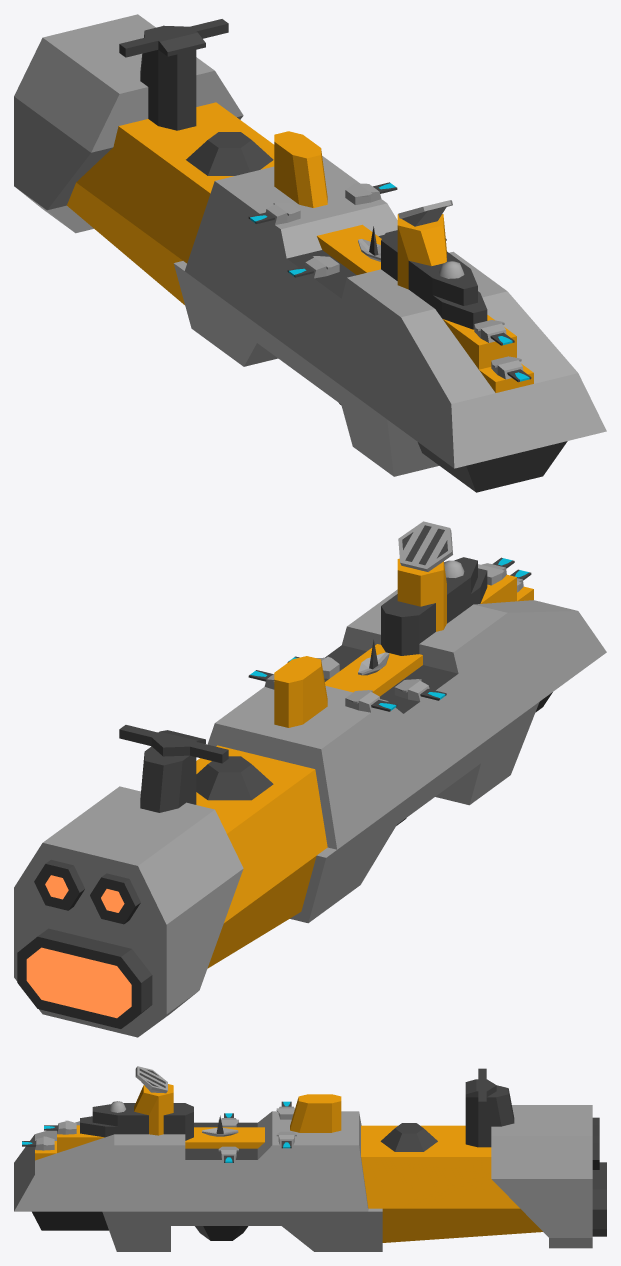
Rendered from SpaceshipShadowOfWill.fbx.
3 views of the same model, one above another, from view 1: azimuth 30°, elevation 25°; view 2: azimuth 150°, elevation 25°; view 3: azimuth 270°, elevation 25° (orthographic). The views are drawn at different scales.
Visible parts, largest first — view 1: SpaceshipShadowOfWill; view 2: SpaceshipShadowOfWill; view 3: SpaceshipShadowOfWill.
Boxes of the visible parts, left/top/right/bottom form: SpaceshipShadowOfWill: left=14, top=14, right=606, bottom=492; SpaceshipShadowOfWill: left=14, top=521, right=606, bottom=1037; SpaceshipShadowOfWill: left=14, top=1066, right=606, bottom=1251.
Size of the model in its own units: 336 by 521 by 1722.
